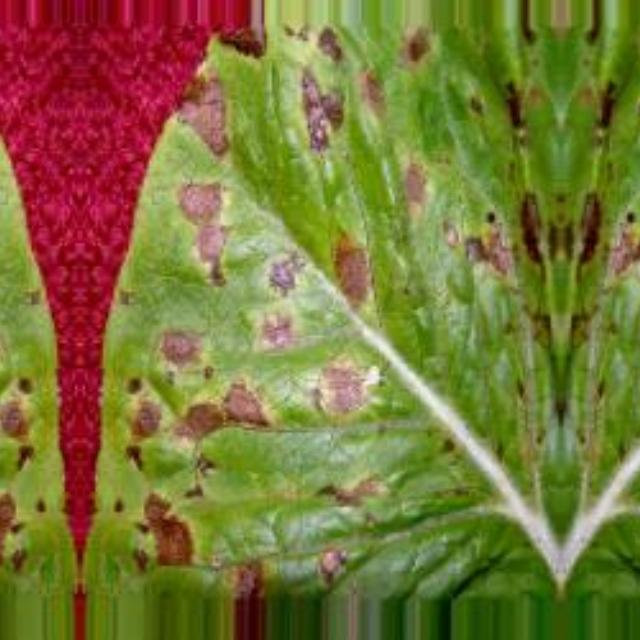Septoria_Blight: (110, 308, 388, 560), (174, 66, 366, 302), (393, 156, 552, 268), (0, 307, 48, 560), (567, 155, 640, 268)
